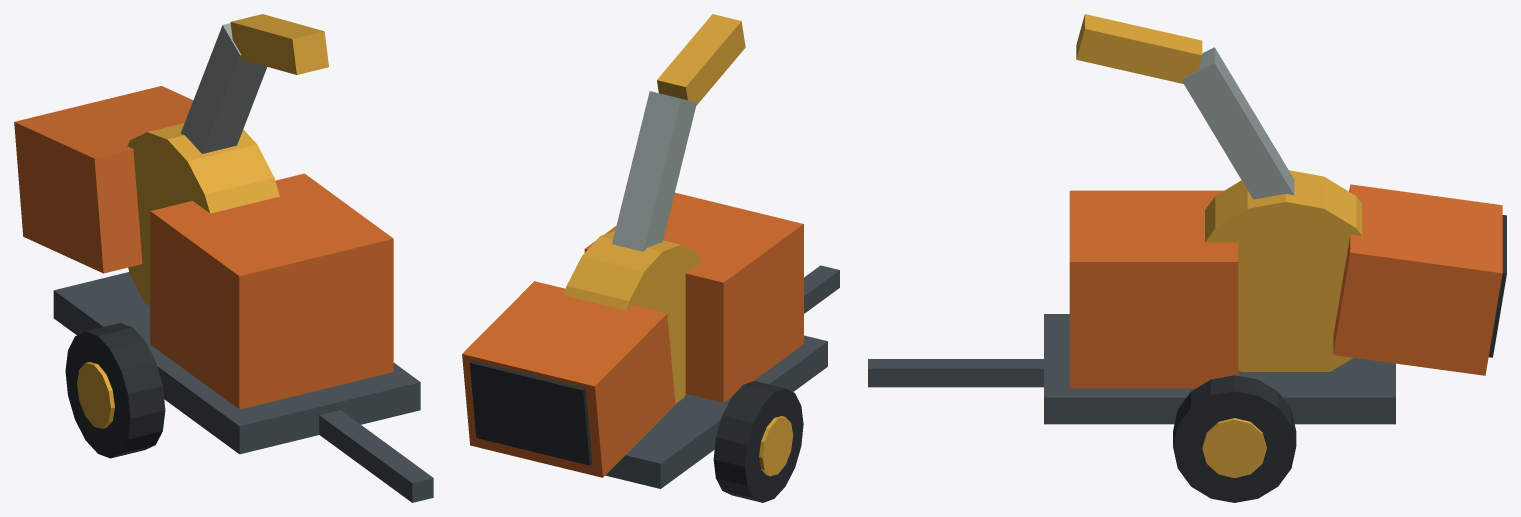
Rendered from wood_chipper.glb.
3 renders of one model, left to right at view 1: azimuth 30°, elevation 25°; view 2: azimuth 150°, elevation 25°; view 3: azimuth 270°, elevation 25°, orthographic. The views are drawn at different scales.
Visible parts, largest first — view 1: wood_chipper; view 2: wood_chipper; view 3: wood_chipper.
Part boxes in pixels (bbox=[...]): wood_chipper: bbox=[14, 14, 433, 502]; wood_chipper: bbox=[462, 14, 839, 502]; wood_chipper: bbox=[868, 14, 1506, 502].
Bounding box in the file's own units: 2.02 × 3.17 × 4.36.
